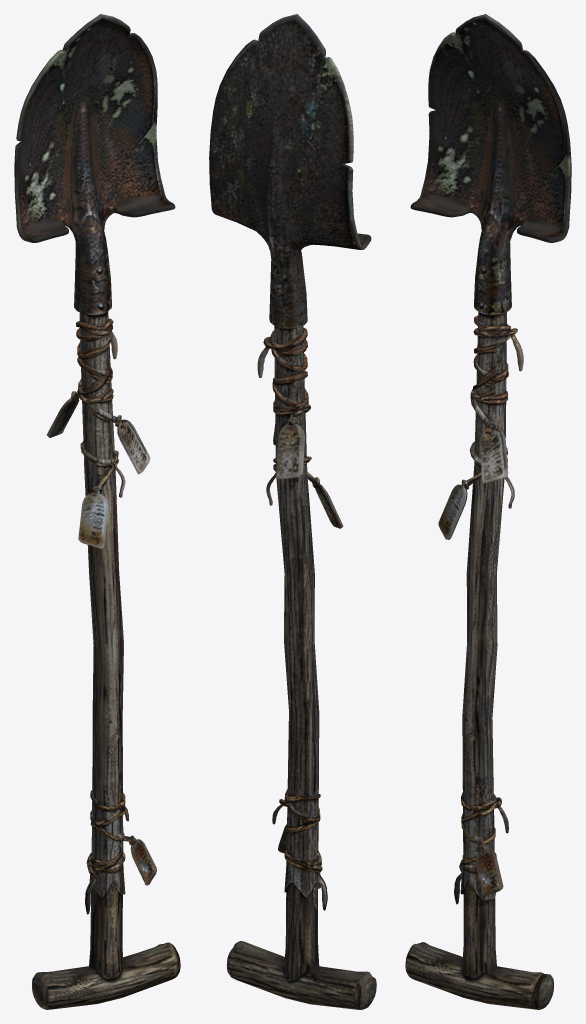
Rendered from vanga_raccoglitore.glb.
3 views of the same model, side by side, from view 1: azimuth 30°, elevation 25°; view 2: azimuth 150°, elevation 25°; view 3: azimuth 330°, elevation 25° (orthographic).
Parts seen in each view (by area): view 1: vanga_raccoglitore; view 2: vanga_raccoglitore; view 3: vanga_raccoglitore.
Part boxes in pixels (x1,y1,x2,y2): vanga_raccoglitore: [14, 14, 180, 1009]; vanga_raccoglitore: [209, 14, 376, 1009]; vanga_raccoglitore: [405, 14, 571, 1009].
Bounding box in the file's own units: 0.2352 × 1.5 × 0.1517.
Materials: 1 (1 with a texture image).
